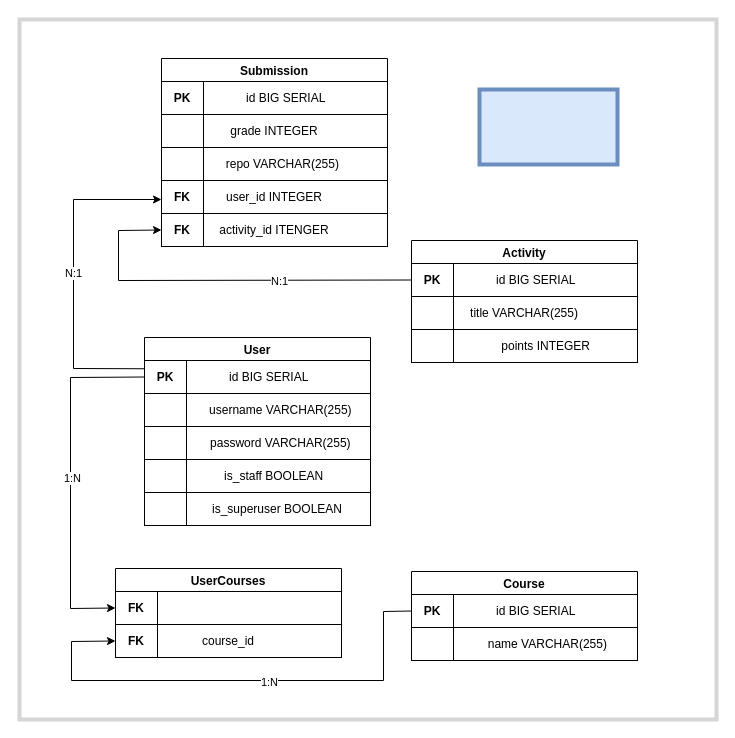
This 735x738 diagram has some shape labels left out. The shapes that lost their labels are listed below. From the top down, each one's centre as x and y in pixels, then its label:
(548,126): DIAGRAMA Entrega 2 - Kanvas
(228,607): user_id
